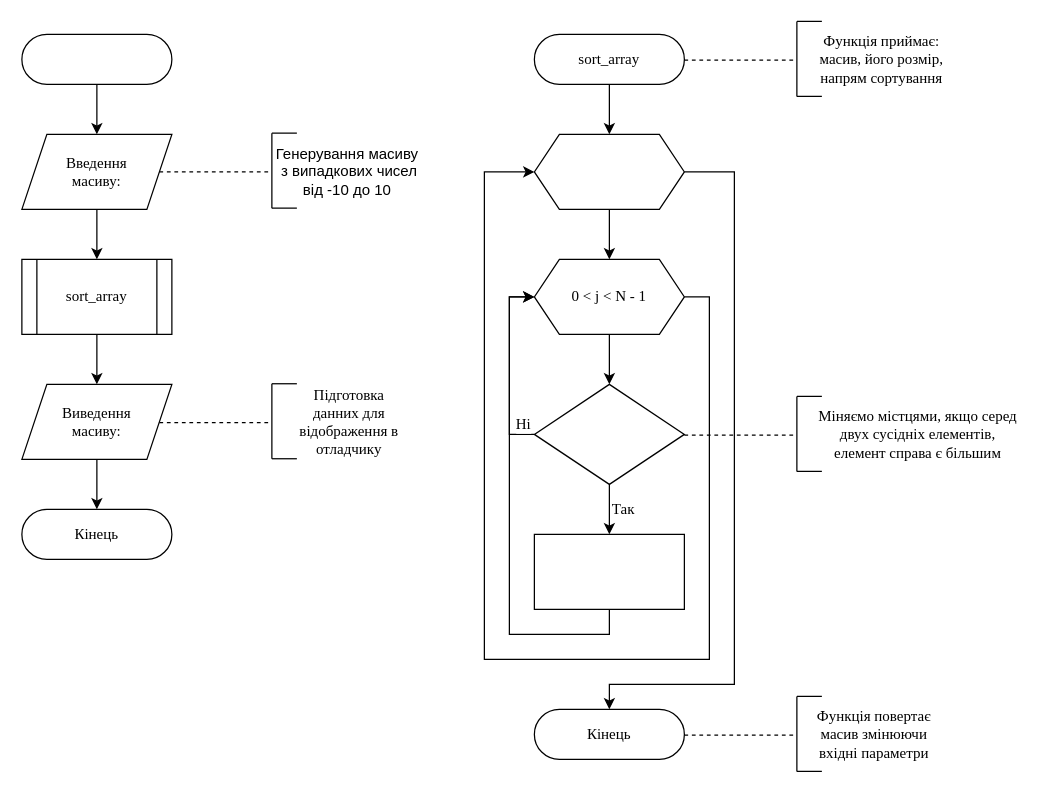
Image size: 1044x795. Some labels were removed from this diagram. Here are the shapes that lost their labels. From the top down, the centre of each, then its label:
At (96,58): "Початок".
At (608,171): "0 < i < N".
At (608,433): "Чи потрібен обмін?".
At (608,571): "Обмін місцями Значеннями елементів масиву".
